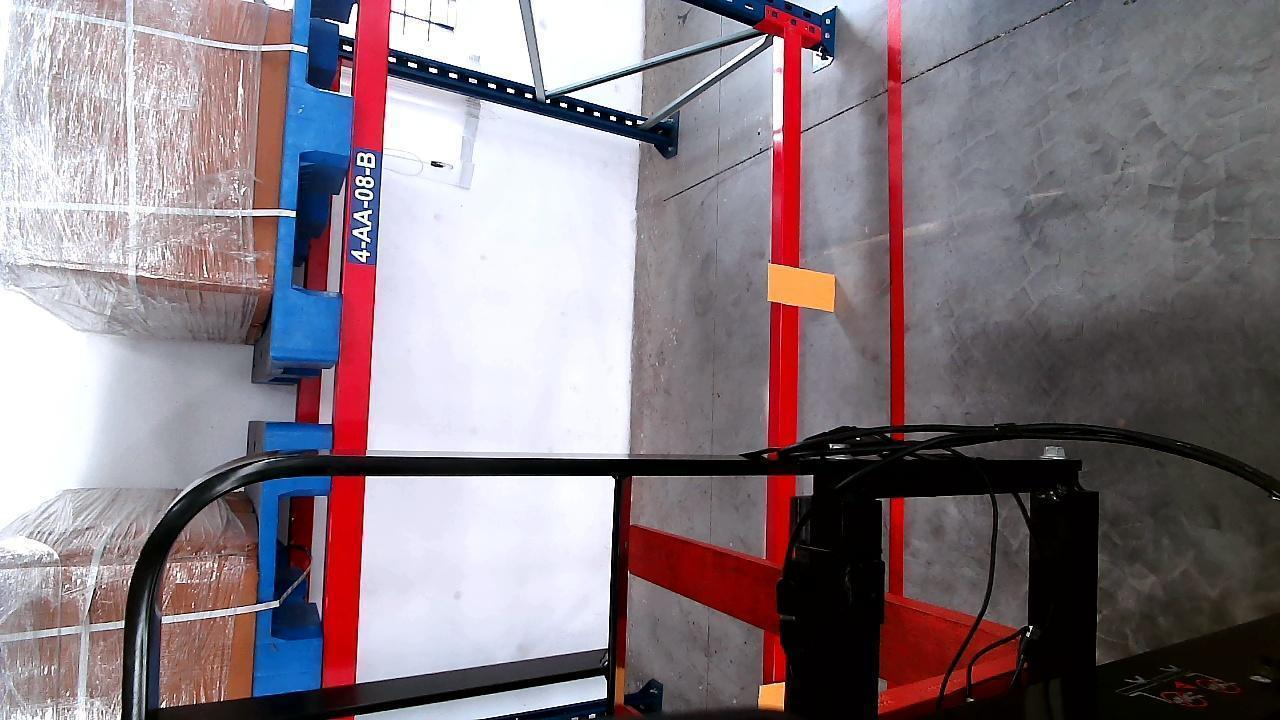red_line: (883, 0, 910, 600)
